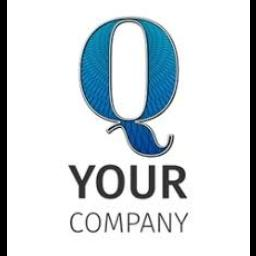q: (69, 8, 181, 160)
